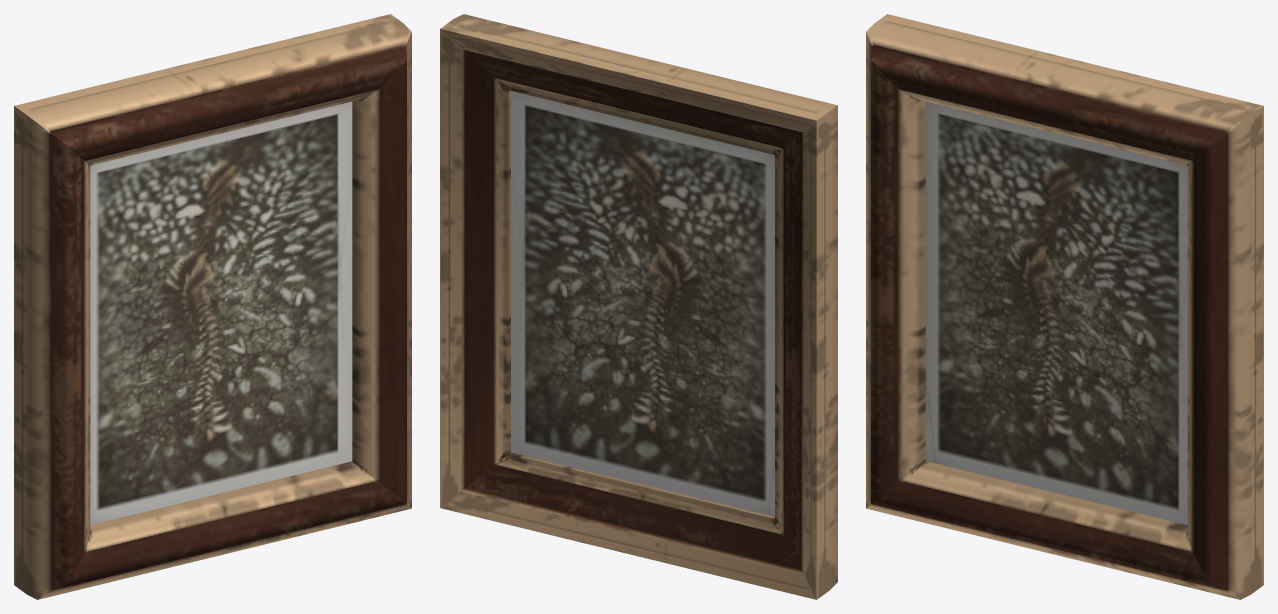
Rendered from Picture_15_Small_Framed.FBX.
3 renders of one model, left to right at view 1: azimuth 30°, elevation 25°; view 2: azimuth 150°, elevation 25°; view 3: azimuth 330°, elevation 25°, orthographic.
Parts seen in each view (by area): view 1: Picture_15_Small_Framed; view 2: Picture_15_Small_Framed; view 3: Picture_15_Small_Framed.
Boxes of the visible parts, box(x1,y1,x2,y2) form: Picture_15_Small_Framed: box(14, 14, 411, 599); Picture_15_Small_Framed: box(440, 14, 837, 599); Picture_15_Small_Framed: box(866, 14, 1263, 599).
Size of the model in its own units: 29.53 by 35.92 by 4.5.
